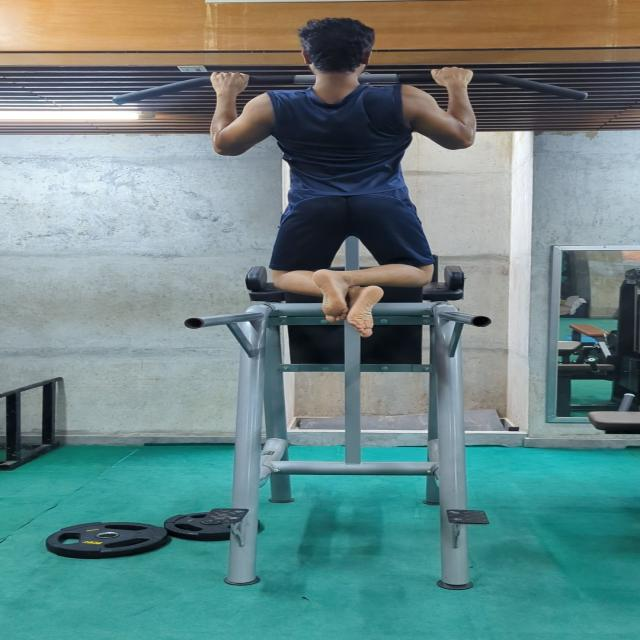Normal_PullUps: (202, 17, 483, 340)
